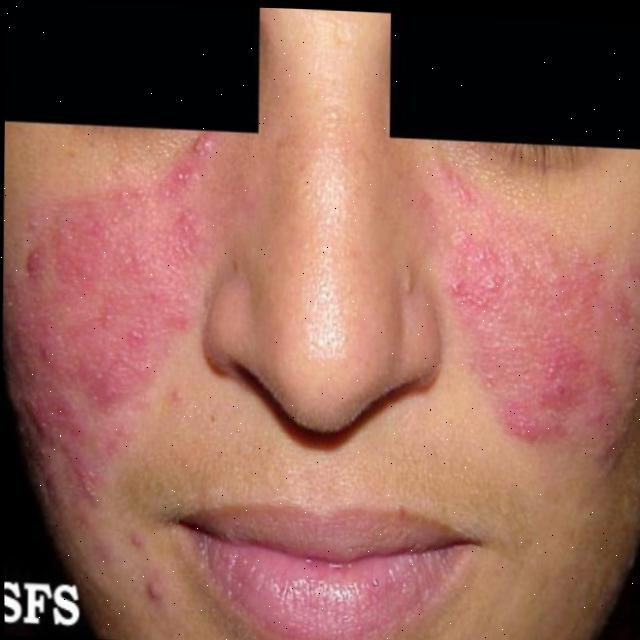Rosacea: (1, 142, 202, 432), (452, 232, 619, 437)
